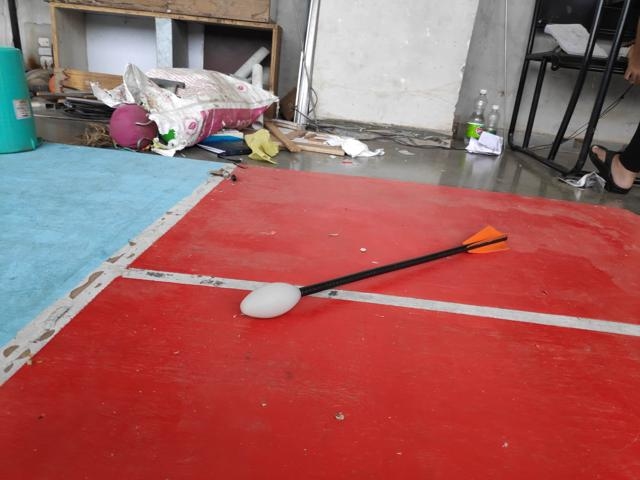Head: (235, 283, 304, 320)
Tail: (457, 224, 512, 256)
